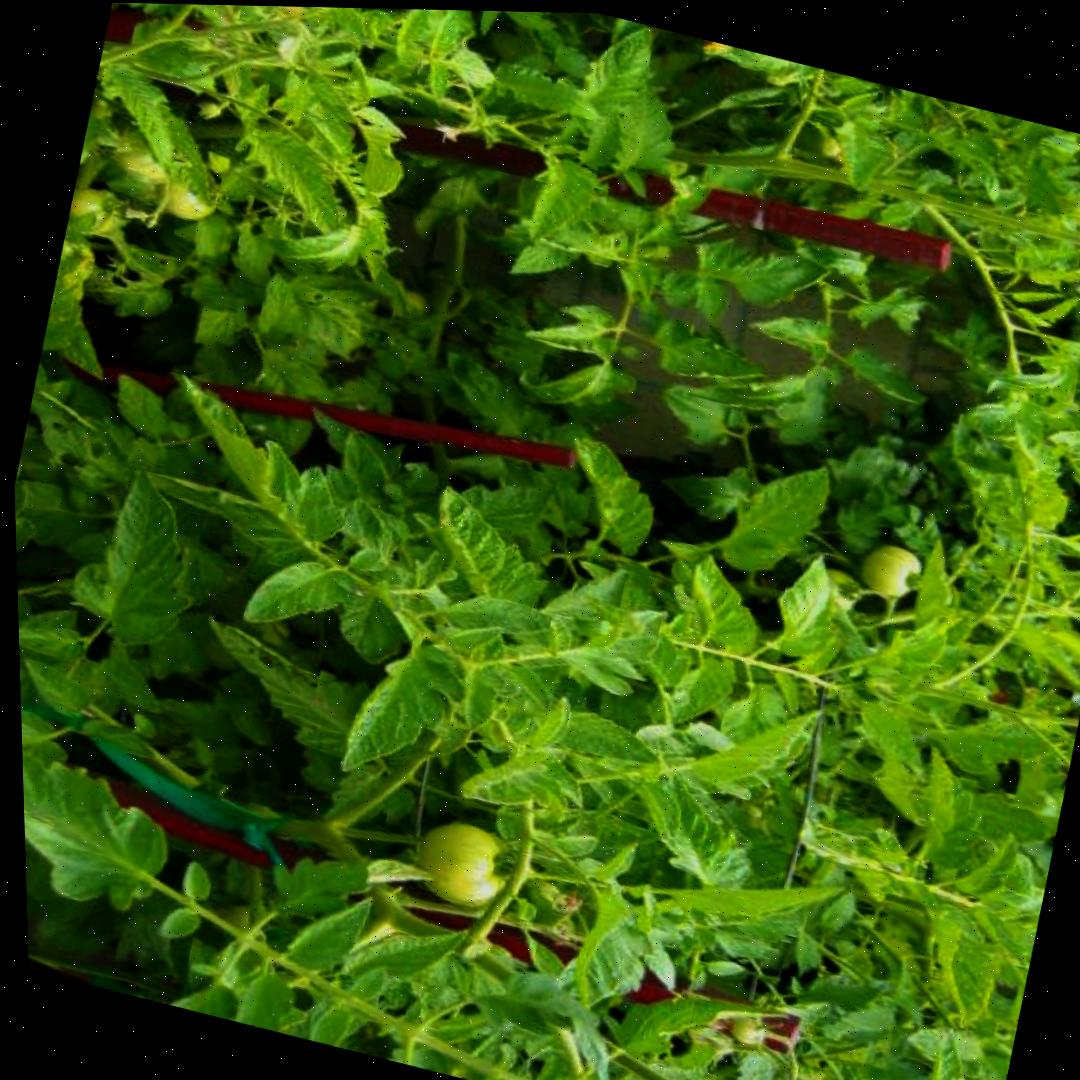mentah: (403, 812, 523, 921), (851, 538, 928, 607)
